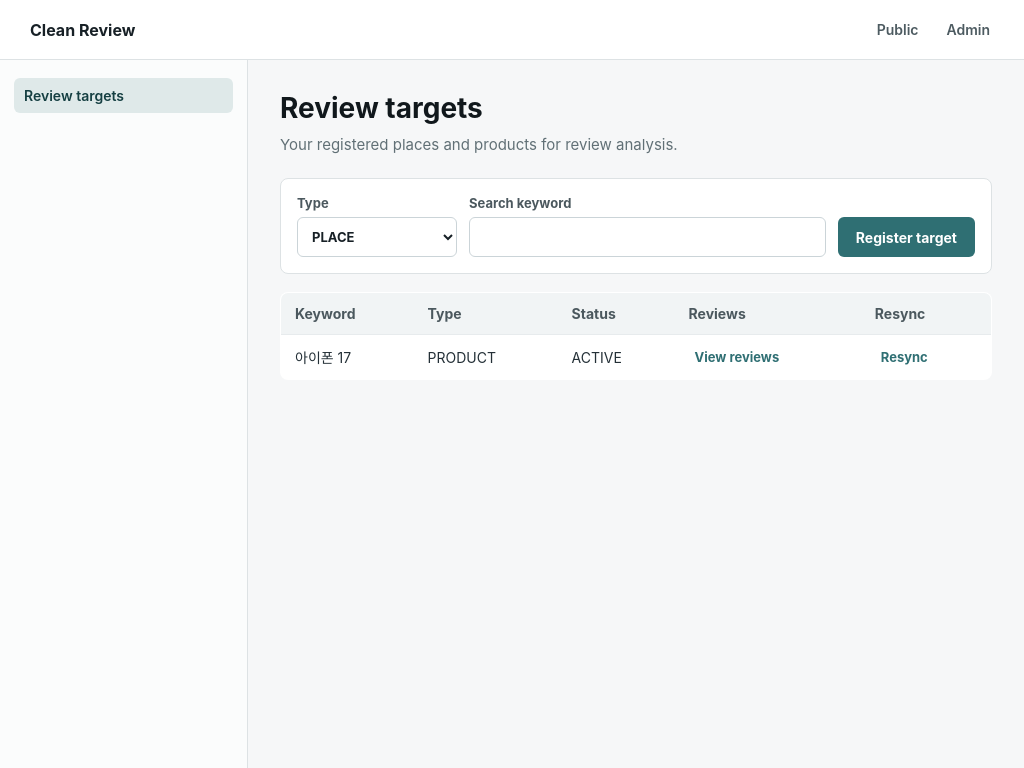
App route shells › shows pending report state when a collected review has no analysis yet
Click the button with aria-label "View reviews for 아이폰 17".
click(737, 357)  # box [688,348,785,366]
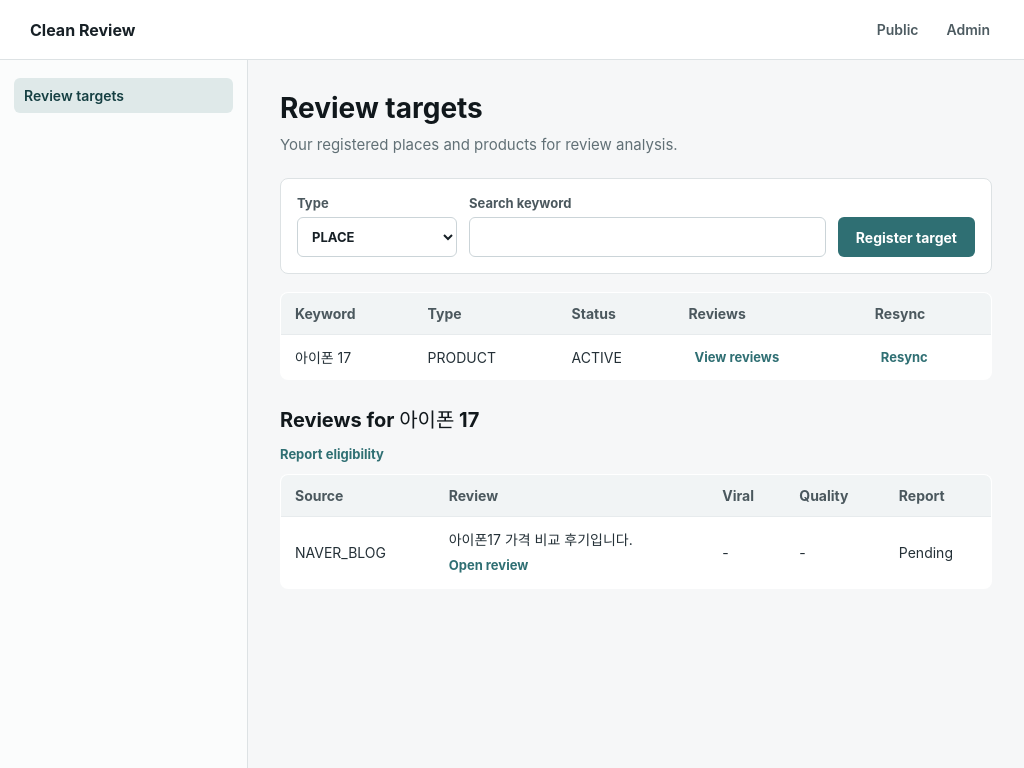
Expected: the text "Pending" is shown, [885,517,992,588]
